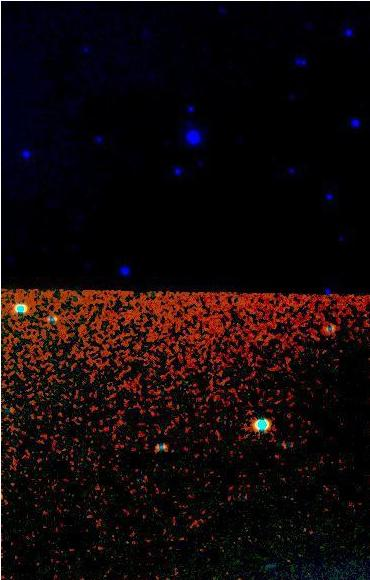star: (228, 371, 258, 401)
